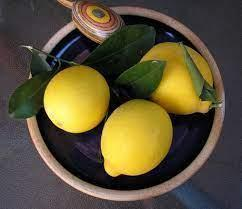lemon: (100, 99, 172, 176), (140, 42, 212, 114), (44, 66, 110, 134)
